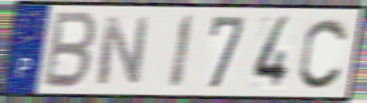4: (249, 13, 294, 93)
7: (207, 14, 246, 90)
B: (40, 8, 101, 92)
C: (297, 15, 351, 92)
I: (167, 12, 197, 92)
N: (94, 14, 152, 87)
